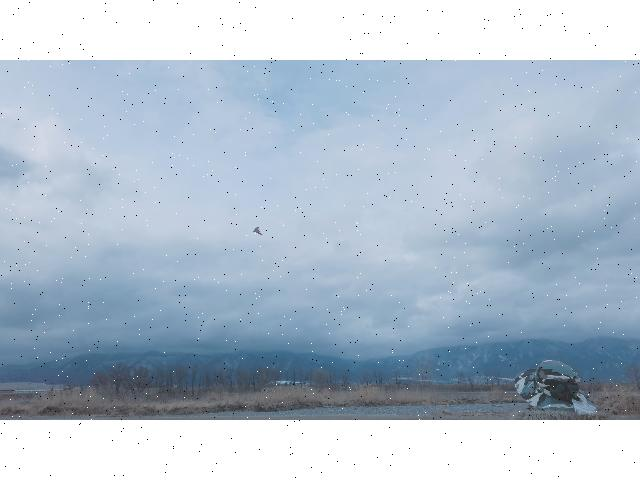Anti-Drone: (250, 224, 264, 238)
